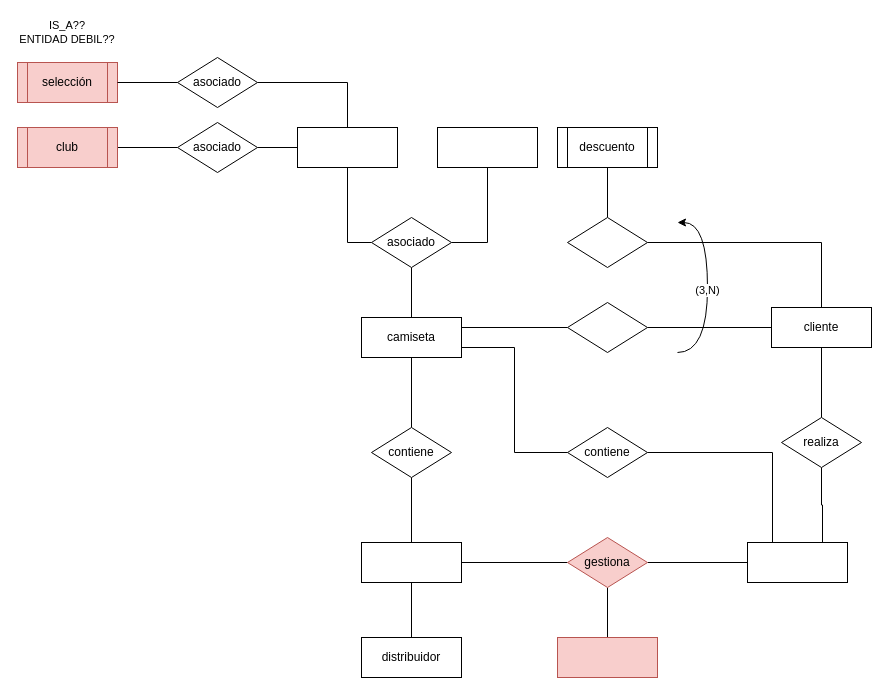
Some shapes in this 889 by 695 pixel diagram are drawn without their labels. Each missing label, with the centre of its shape:
compra: the point at 607,327
encargado: the point at 607,657
equipo: the point at 347,147
jugador: the point at 487,147
obtiene: the point at 607,242
pedido cliente: the point at 797,562
pedido distribuidor: the point at 411,562
